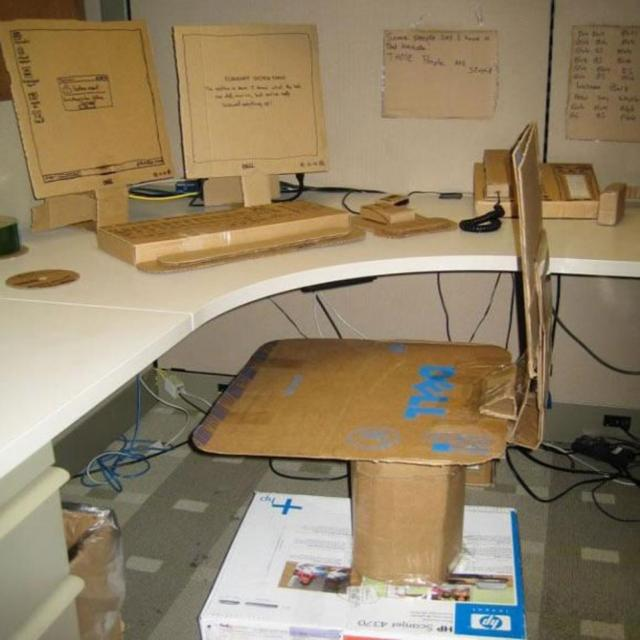desk: (0, 189, 639, 639)
keyboard: (95, 202, 357, 270)
